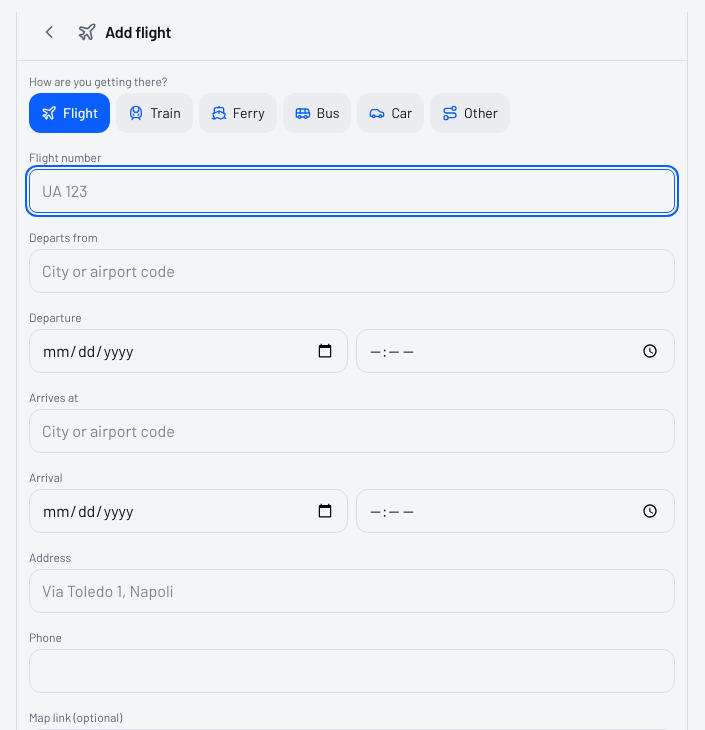
Test: adding a flight › shows the offset it resolved to, so a wrong one is caught at entry
Type "San Diego" into the field labelled "Departs from".
click(352, 271); type("San Diego")  # box [29,249,675,293]
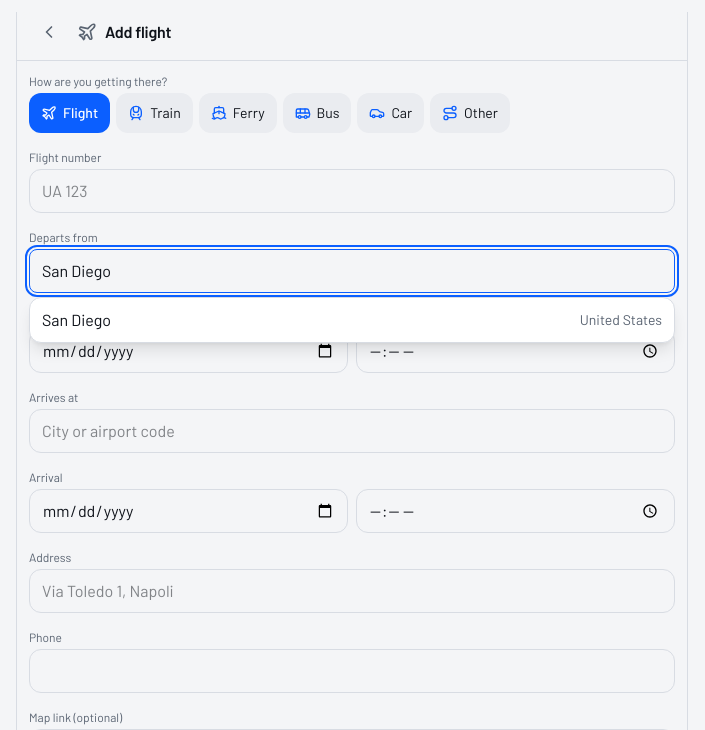
Click the button "San Diego United States".
click(77, 320)  # box [30,298,674,342]
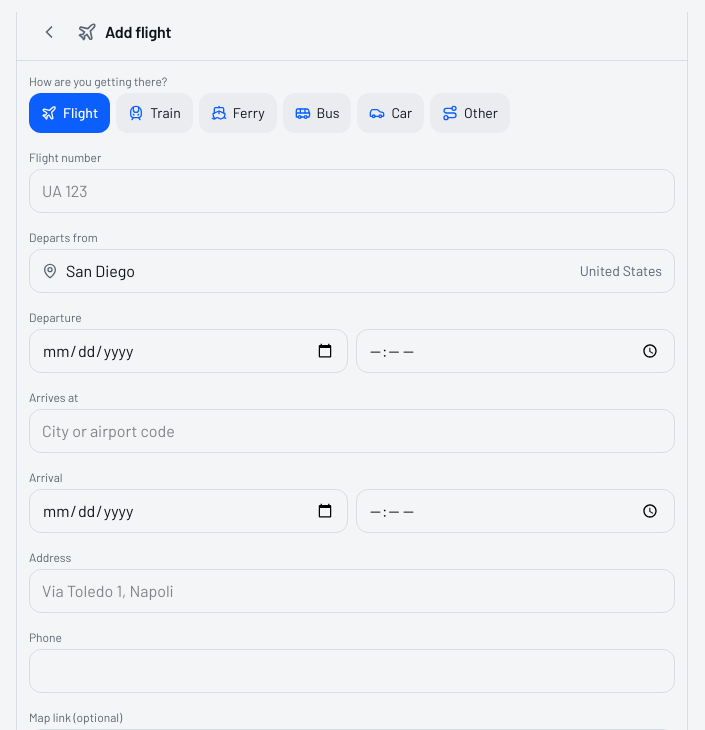
Type "2026-05-08" into the date field named "Departure date".
click(188, 351); type("2026-05-08")  # box [29,329,348,373]
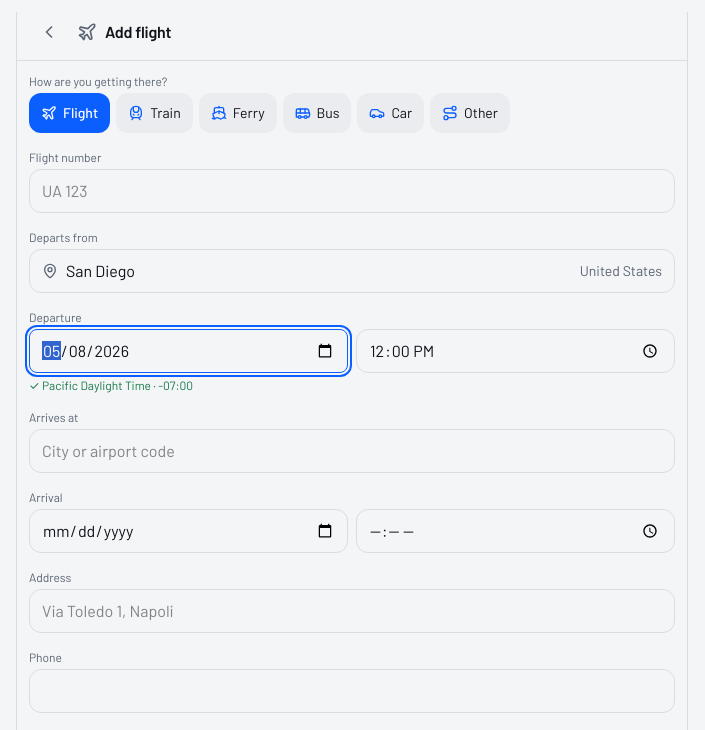
Now the text "✓ Pacific Daylight Time · -07:00" is shown, box [29,378,193,392]
